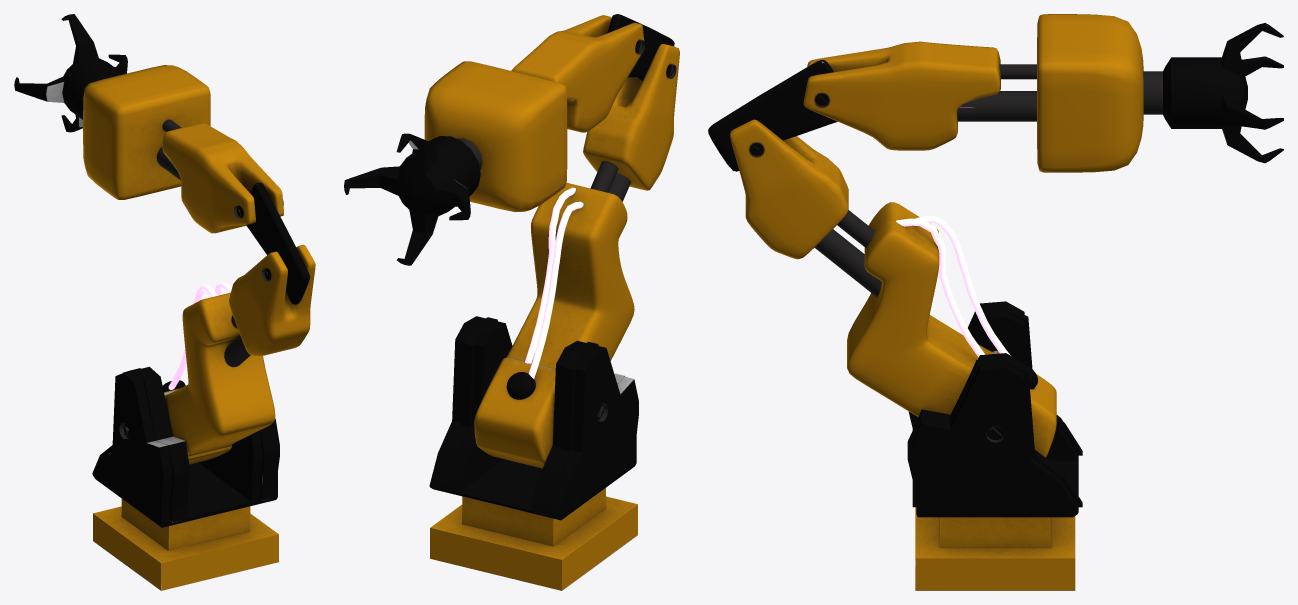
Rendered from robotic-arm.glb.
The picture shows the model from 3 angles, left to right: view 1: azimuth 30°, elevation 25°; view 2: azimuth 150°, elevation 25°; view 3: azimuth 270°, elevation 25°; orthographic projection. The views are drawn at different scales.
Visible parts, largest first — view 1: Cube, Plane.003, Cube.001, Plane.002, Plane, Cylinder.006, Plane.001, Cylinder.002, Cylinder.009, Cylinder.007; view 2: Cube, Cube.001, Plane.003, Plane.002, Plane, Cylinder.006, Cylinder.009, Cylinder.010, Plane.001, Cylinder.002, Cylinder.008; view 3: Cube, Cube.001, Plane.003, Plane.002, Plane, Cylinder.006, Plane.001, Cylinder.007, Cylinder.002, Cylinder.010, Cylinder.009.
Part boxes in pixels (x1,y1,x2,y2): Cube: (92, 366, 279, 590); Plane.003: (83, 65, 210, 199); Cube.001: (164, 292, 275, 464); Plane.002: (162, 123, 283, 233); Plane: (228, 244, 315, 355); Cylinder.006: (14, 14, 127, 132); Plane.001: (246, 182, 310, 304); Cylinder.002: (224, 315, 250, 366); Cylinder.009: (168, 284, 217, 389); Cylinder.007: (156, 119, 181, 180); Cube: (429, 316, 638, 590); Cube.001: (474, 182, 634, 468); Plane.003: (424, 61, 567, 211); Plane.002: (511, 15, 644, 132); Plane: (583, 44, 679, 190); Cylinder.006: (344, 133, 482, 265); Cylinder.009: (528, 201, 583, 378); Cylinder.010: (524, 187, 575, 363); Plane.001: (607, 14, 674, 80); Cylinder.002: (590, 161, 630, 201); Cylinder.008: (506, 372, 535, 399); Cube: (907, 301, 1082, 590); Cube.001: (847, 202, 1056, 457); Plane.003: (1037, 14, 1143, 172); Plane.002: (803, 41, 1000, 150); Plane: (730, 119, 848, 259); Cylinder.006: (1143, 23, 1283, 163); Plane.001: (708, 60, 837, 171); Cylinder.007: (957, 64, 1036, 121); Cylinder.002: (814, 210, 881, 296); Cylinder.010: (896, 218, 985, 357); Cylinder.009: (915, 215, 1010, 355).
Bounding box in the file's own units: 263 × 911 × 893.
1 material, 1 textured.
